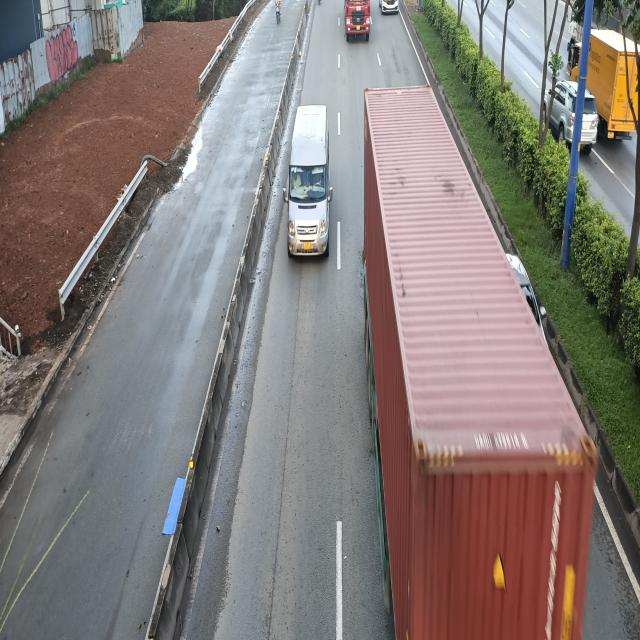container: (360, 85, 597, 640)
van: (284, 105, 333, 260)
